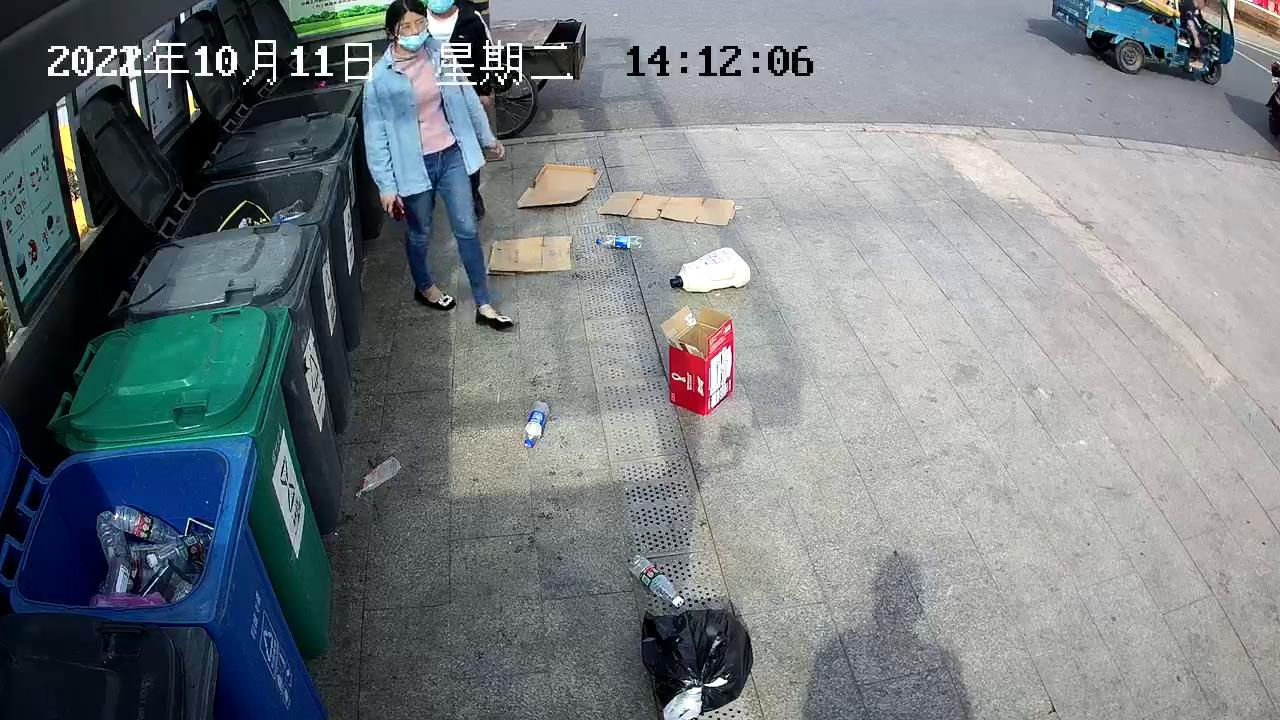garbage-bag: (638, 605, 754, 720)
suliaozhipin: (667, 244, 753, 295), (625, 550, 687, 609), (352, 452, 404, 500), (520, 398, 551, 449), (592, 228, 645, 252)
worker: (359, 1, 515, 335)
zhizhipin: (657, 303, 738, 415), (597, 189, 740, 229), (514, 161, 604, 209), (484, 233, 575, 279)
